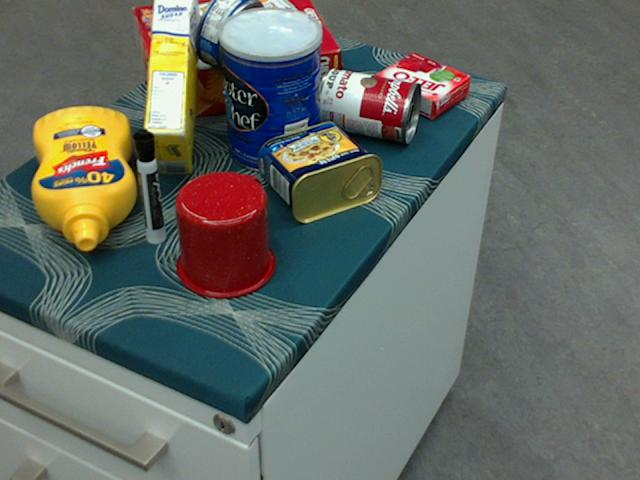cracker_box: (134, 0, 340, 121)
gelatin_box: (374, 54, 470, 117)
large_marker: (131, 128, 166, 242)
master_chef_can: (218, 6, 322, 174)
mug: (174, 169, 275, 297)
mustard_bottle: (31, 107, 135, 250)
potted_meat_can: (257, 119, 382, 224)
sugar_box: (144, 0, 199, 174)
tomato_soup_can: (316, 67, 422, 143)
tuna_fish_can: (195, 0, 267, 72)
